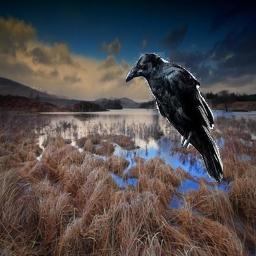Crow: (126, 52, 223, 182)
